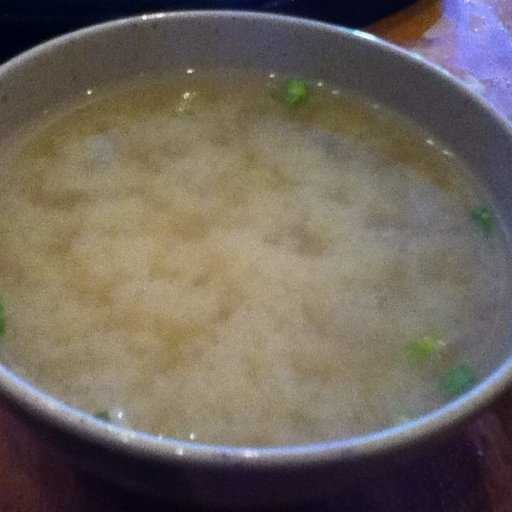soup: (1, 37, 464, 434)
